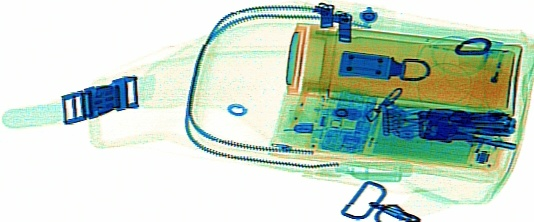lighter: (463, 35, 507, 108)
